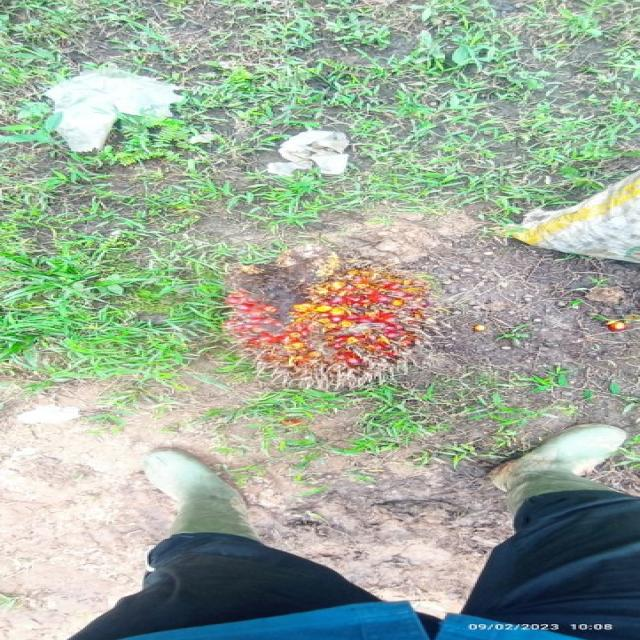fraksi 3: (177, 240, 481, 402)
